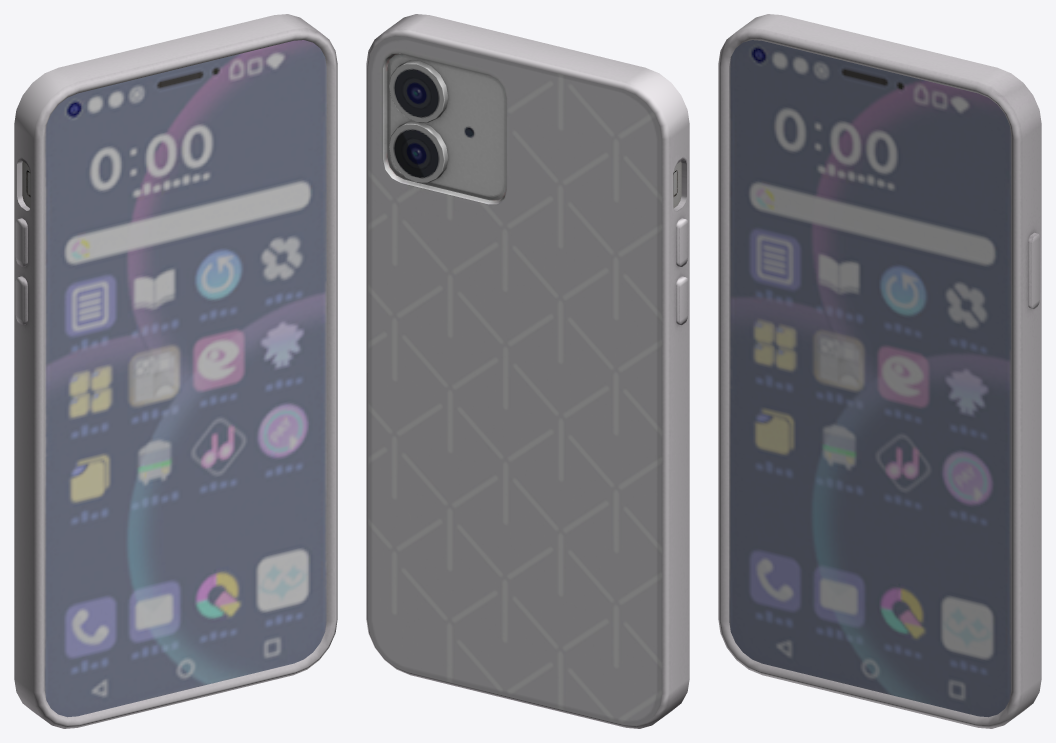
File: mdl_prp_smartphone-hmsz-00_smartphone.glb
The picture shows the model from 3 angles, left to right: view 1: azimuth 30°, elevation 25°; view 2: azimuth 150°, elevation 25°; view 3: azimuth 330°, elevation 25°; orthographic projection.
Visible parts, largest first — view 1: smartphone.obj; view 2: smartphone.obj; view 3: smartphone.obj.
Part boxes in pixels (left/top/right/bottom): smartphone.obj: left=14, top=14, right=337, bottom=728; smartphone.obj: left=366, top=14, right=689, bottom=728; smartphone.obj: left=718, top=14, right=1041, bottom=728.
Size of the model in its own units: 0.0708 by 0.14 by 0.0103.
Materials: 1 (1 with a texture image).
